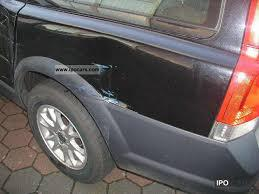quaterpanel-dent: (63, 26, 201, 123)
